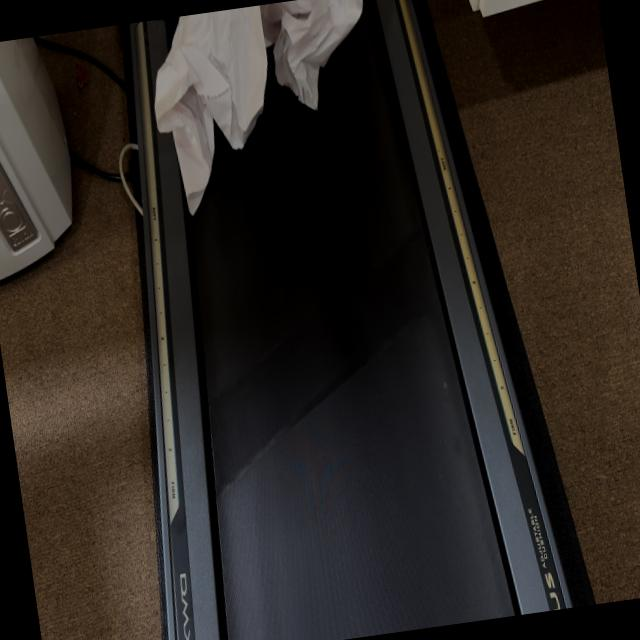Trash: (156, 0, 397, 203)
